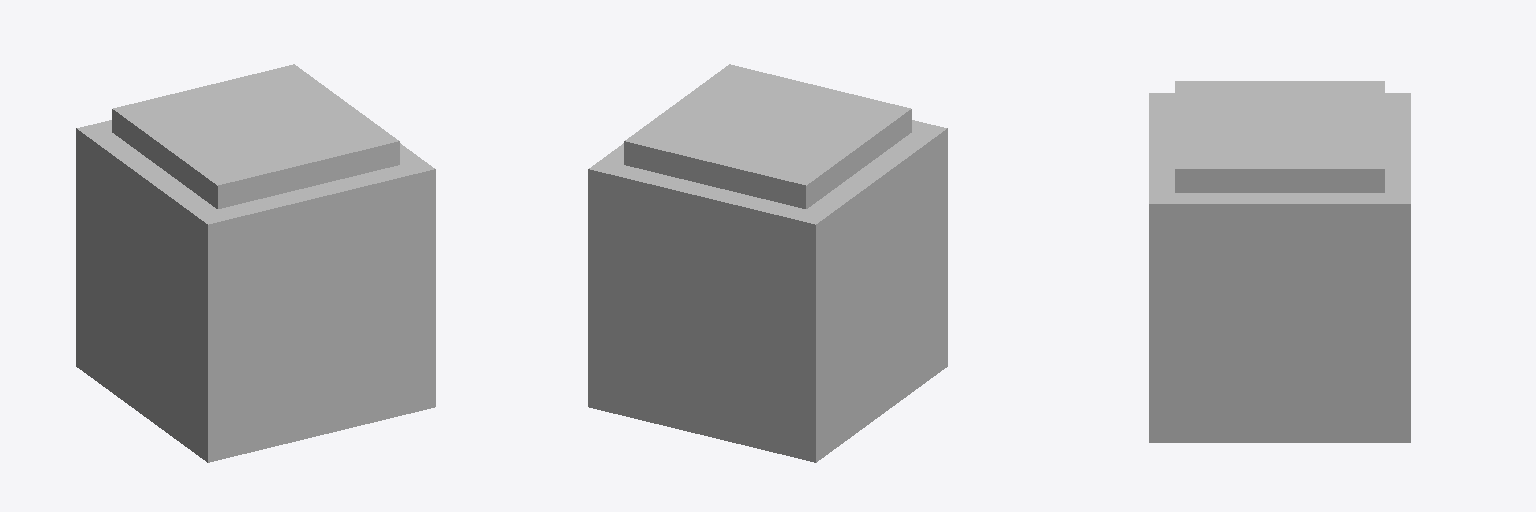
File: sauna_stove.obj
3 renders of one model, left to right at view 1: azimuth 30°, elevation 25°; view 2: azimuth 150°, elevation 25°; view 3: azimuth 270°, elevation 25°, orthographic.
Visible parts, largest first — view 1: Cube; view 2: Cube; view 3: Cube.
Part boxes in pixels (x1,y1,x2,y2): Cube: (76,64,435,462); Cube: (588,64,947,462); Cube: (1149,81,1410,442).
Bounding box in the file's own units: 1 × 1.1 × 1.